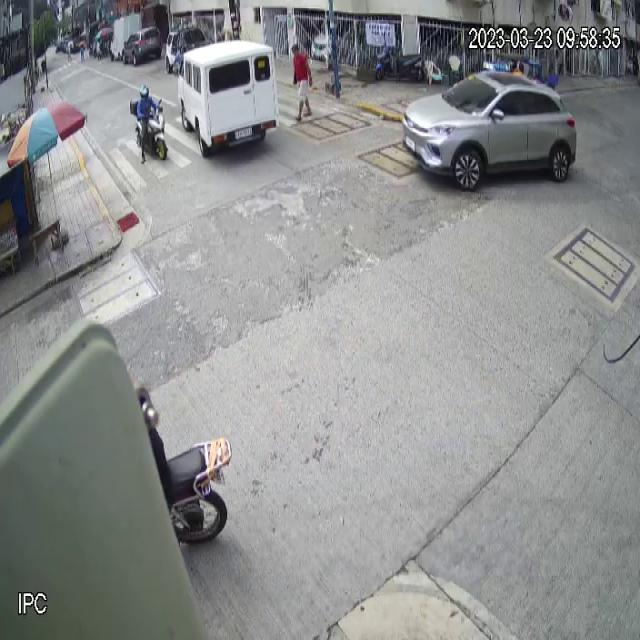Car: (400, 68, 579, 194)
Van: (178, 39, 280, 159)
